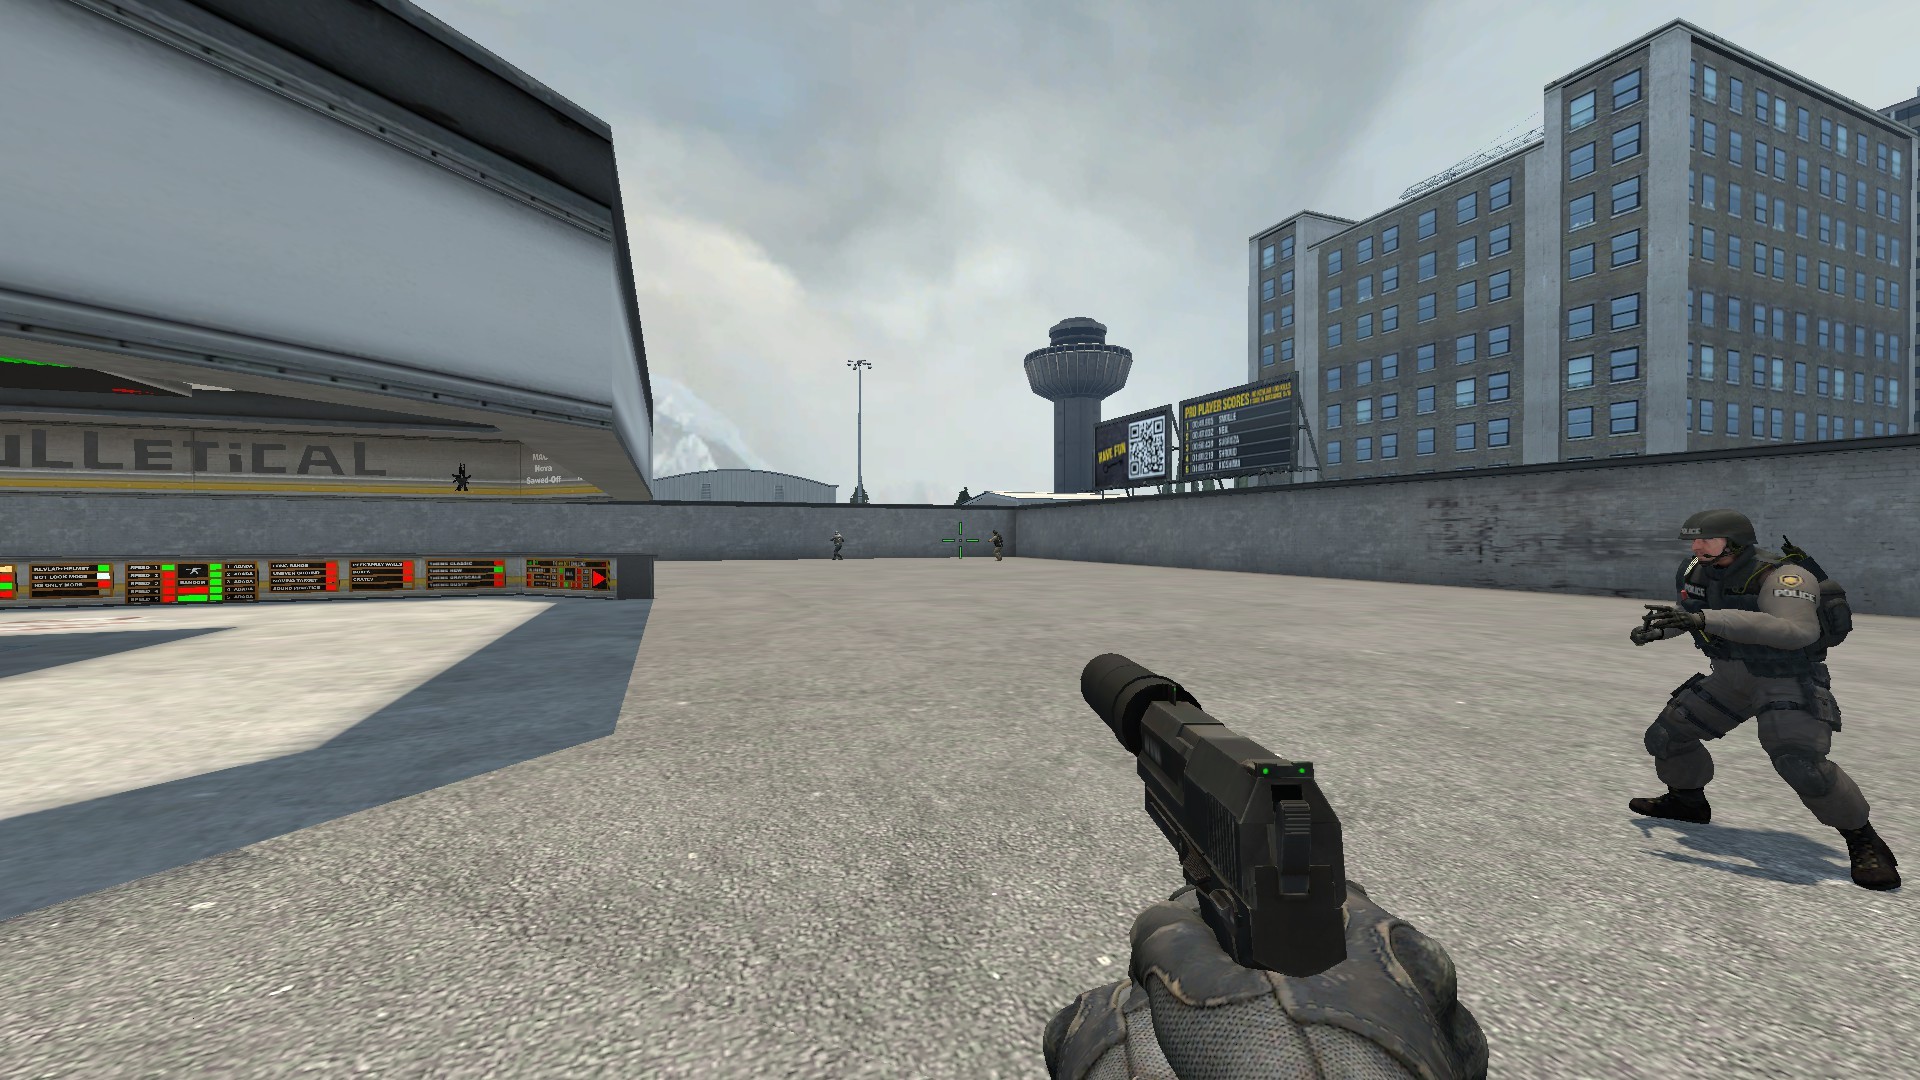ct: (1625, 506, 1920, 894)
ct head: (1673, 506, 1756, 575)
